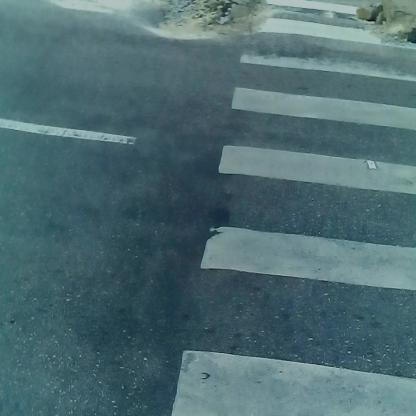crosswalk: (207, 12, 414, 416)
